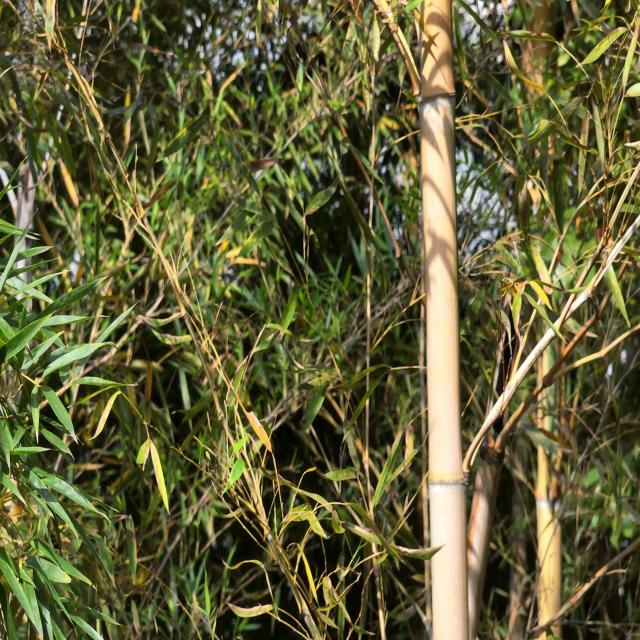Bamboo-shoots: (420, 0, 469, 640)
